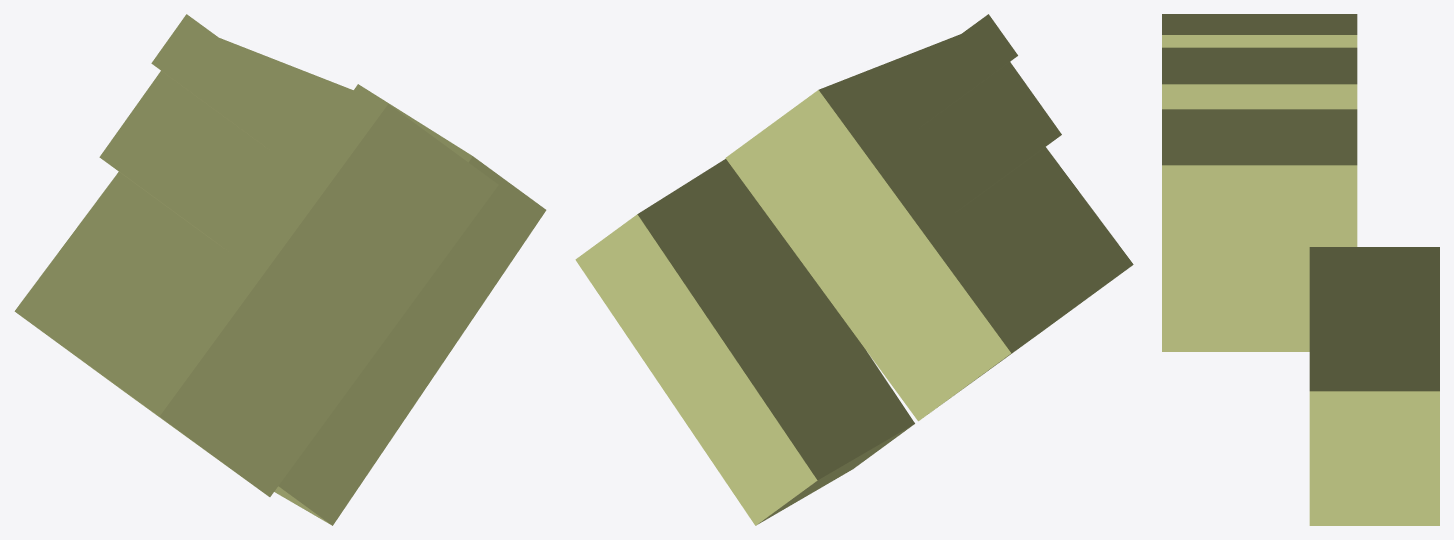
The picture shows the model from 3 angles, left to right: view 1: azimuth 30°, elevation 25°; view 2: azimuth 150°, elevation 25°; view 3: azimuth 270°, elevation 25°; orthographic projection. The views are drawn at different scales.
Visible parts, largest first — view 1: 0_0_1_1_3_3_2_3_2; view 2: 0_0_1_1_3_3_2_3_2; view 3: 0_0_1_1_3_3_2_3_2.
Boxes of the visible parts, box(x1,y1,x2,y2) form: 0_0_1_1_3_3_2_3_2: box(14, 14, 546, 525); 0_0_1_1_3_3_2_3_2: box(575, 14, 1133, 525); 0_0_1_1_3_3_2_3_2: box(1162, 14, 1439, 525).
Bounding box in the file's own units: 23.75 × 23.42 × 12.81.
